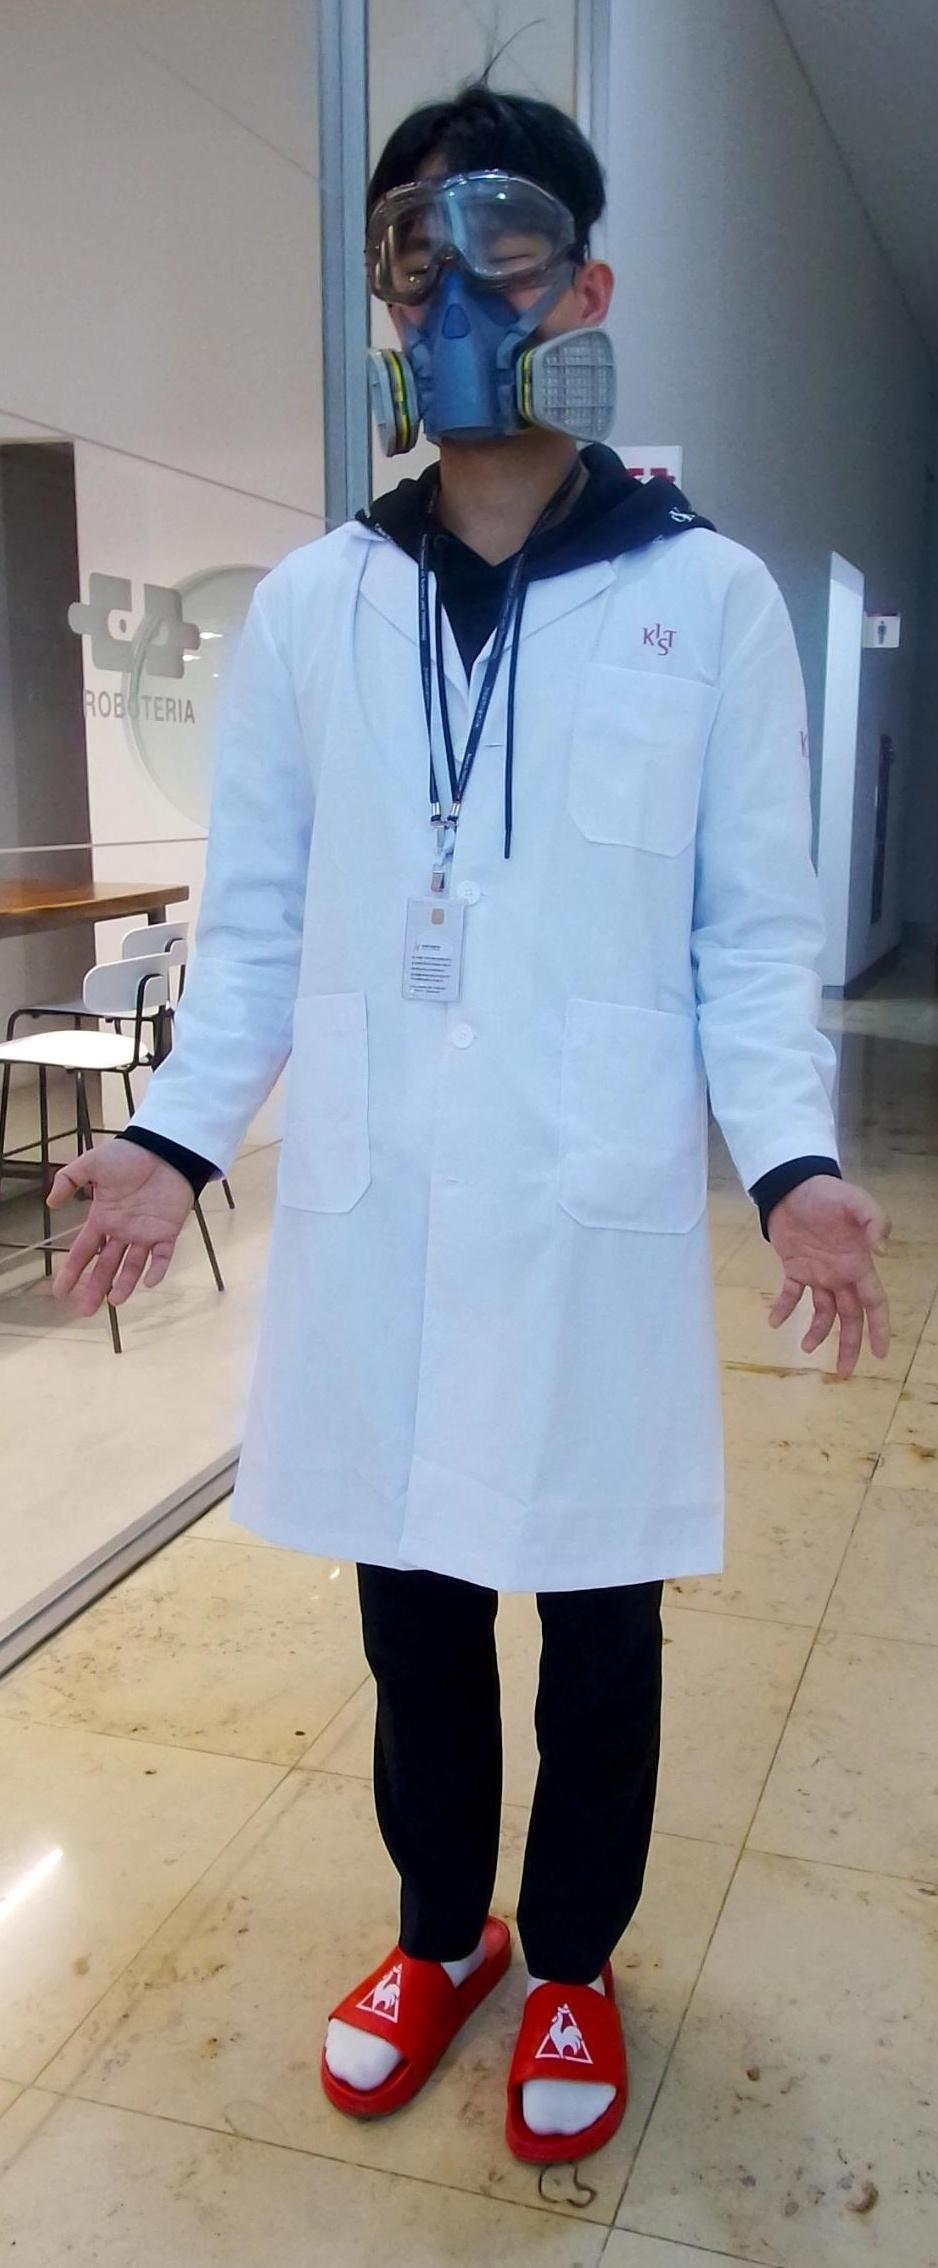lab_coat: (204, 545, 772, 1551)
